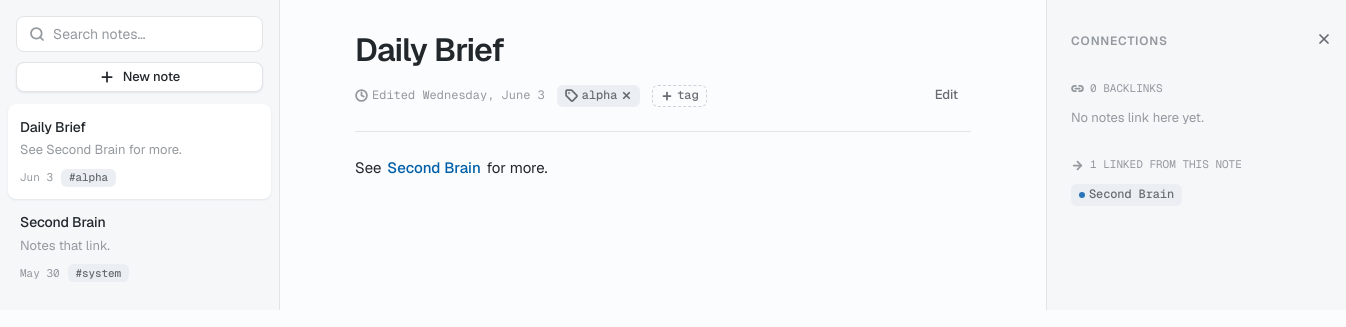
Brain — tags › removes a tag by clicking it
Click the button "alpha" at (598, 96), box [557,85,640,107]
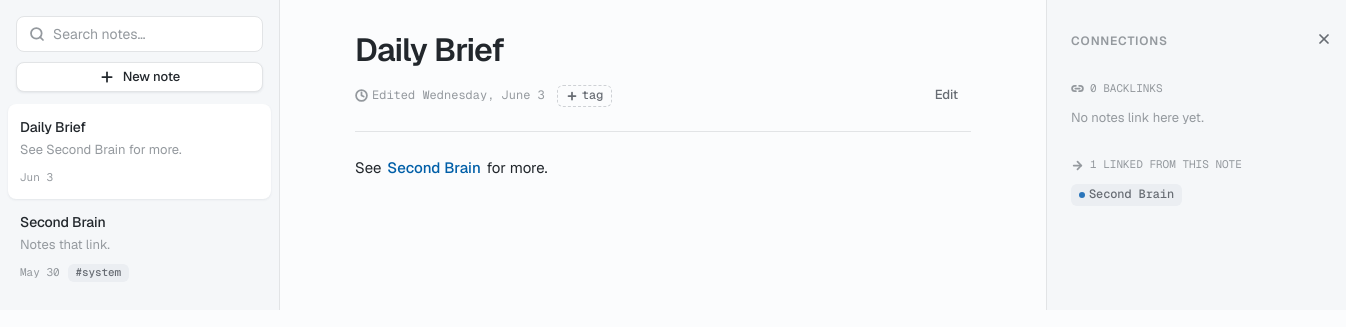
Check: the text "alpha" is gone
